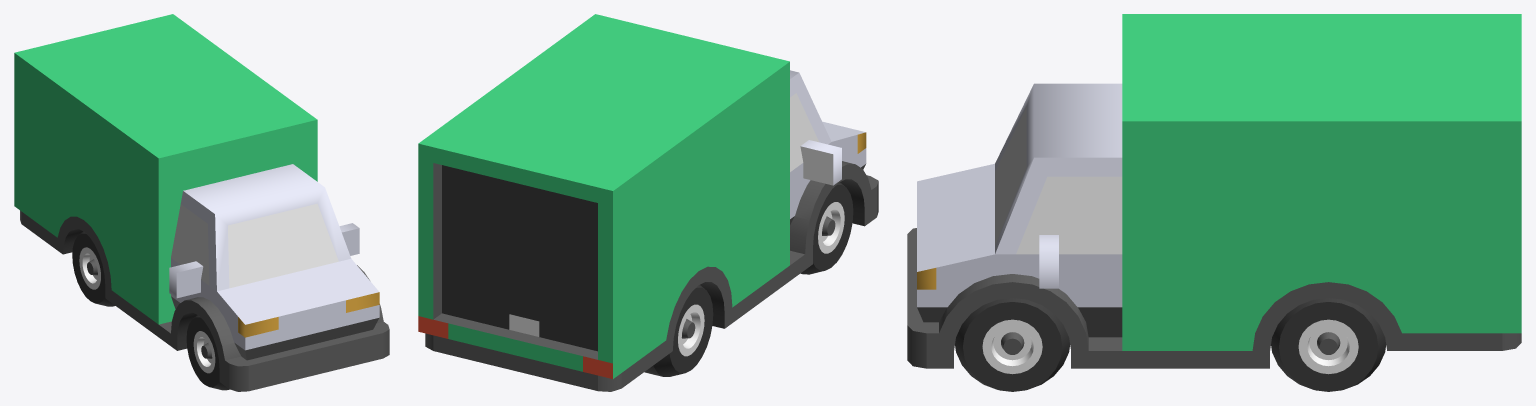
The model's file is delivery.obj.
3 renders of one model, left to right at view 1: azimuth 30°, elevation 25°; view 2: azimuth 150°, elevation 25°; view 3: azimuth 270°, elevation 25°, orthographic. The views are drawn at different scales.
Visible parts, largest first — view 1: body, wheel_backRight, wheel_frontRight; view 2: body, door, wheel_backRight, wheel_frontRight; view 3: body, wheel_backLeft, wheel_frontLeft.
Part boxes in pixels (bbox=[...]): body: bbox=[14, 14, 389, 391]; wheel_backRight: bbox=[72, 231, 115, 306]; wheel_frontRight: bbox=[186, 315, 229, 390]; body: bbox=[418, 14, 878, 391]; door: bbox=[442, 165, 597, 351]; wheel_backRight: bbox=[644, 285, 713, 376]; wheel_frontRight: bbox=[800, 182, 853, 274]; body: bbox=[907, 14, 1521, 368]; wheel_backLeft: bbox=[1271, 298, 1386, 391]; wheel_frontLeft: bbox=[955, 298, 1069, 391].
Bounding box in the file's own units: 1.5 × 1.6 × 3.15.
